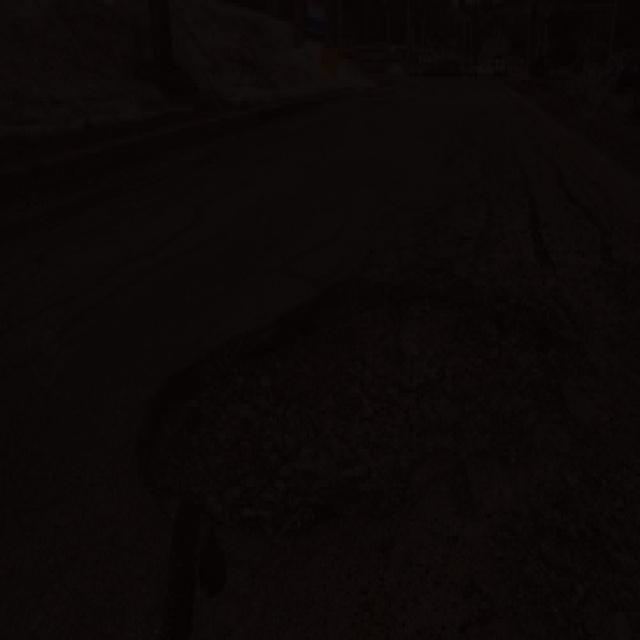Pothole: (125, 271, 593, 565)
